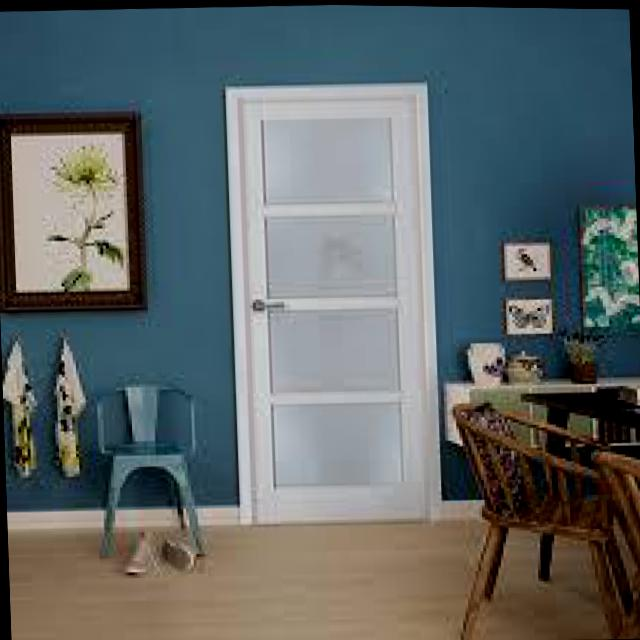close: (196, 49, 460, 541)
